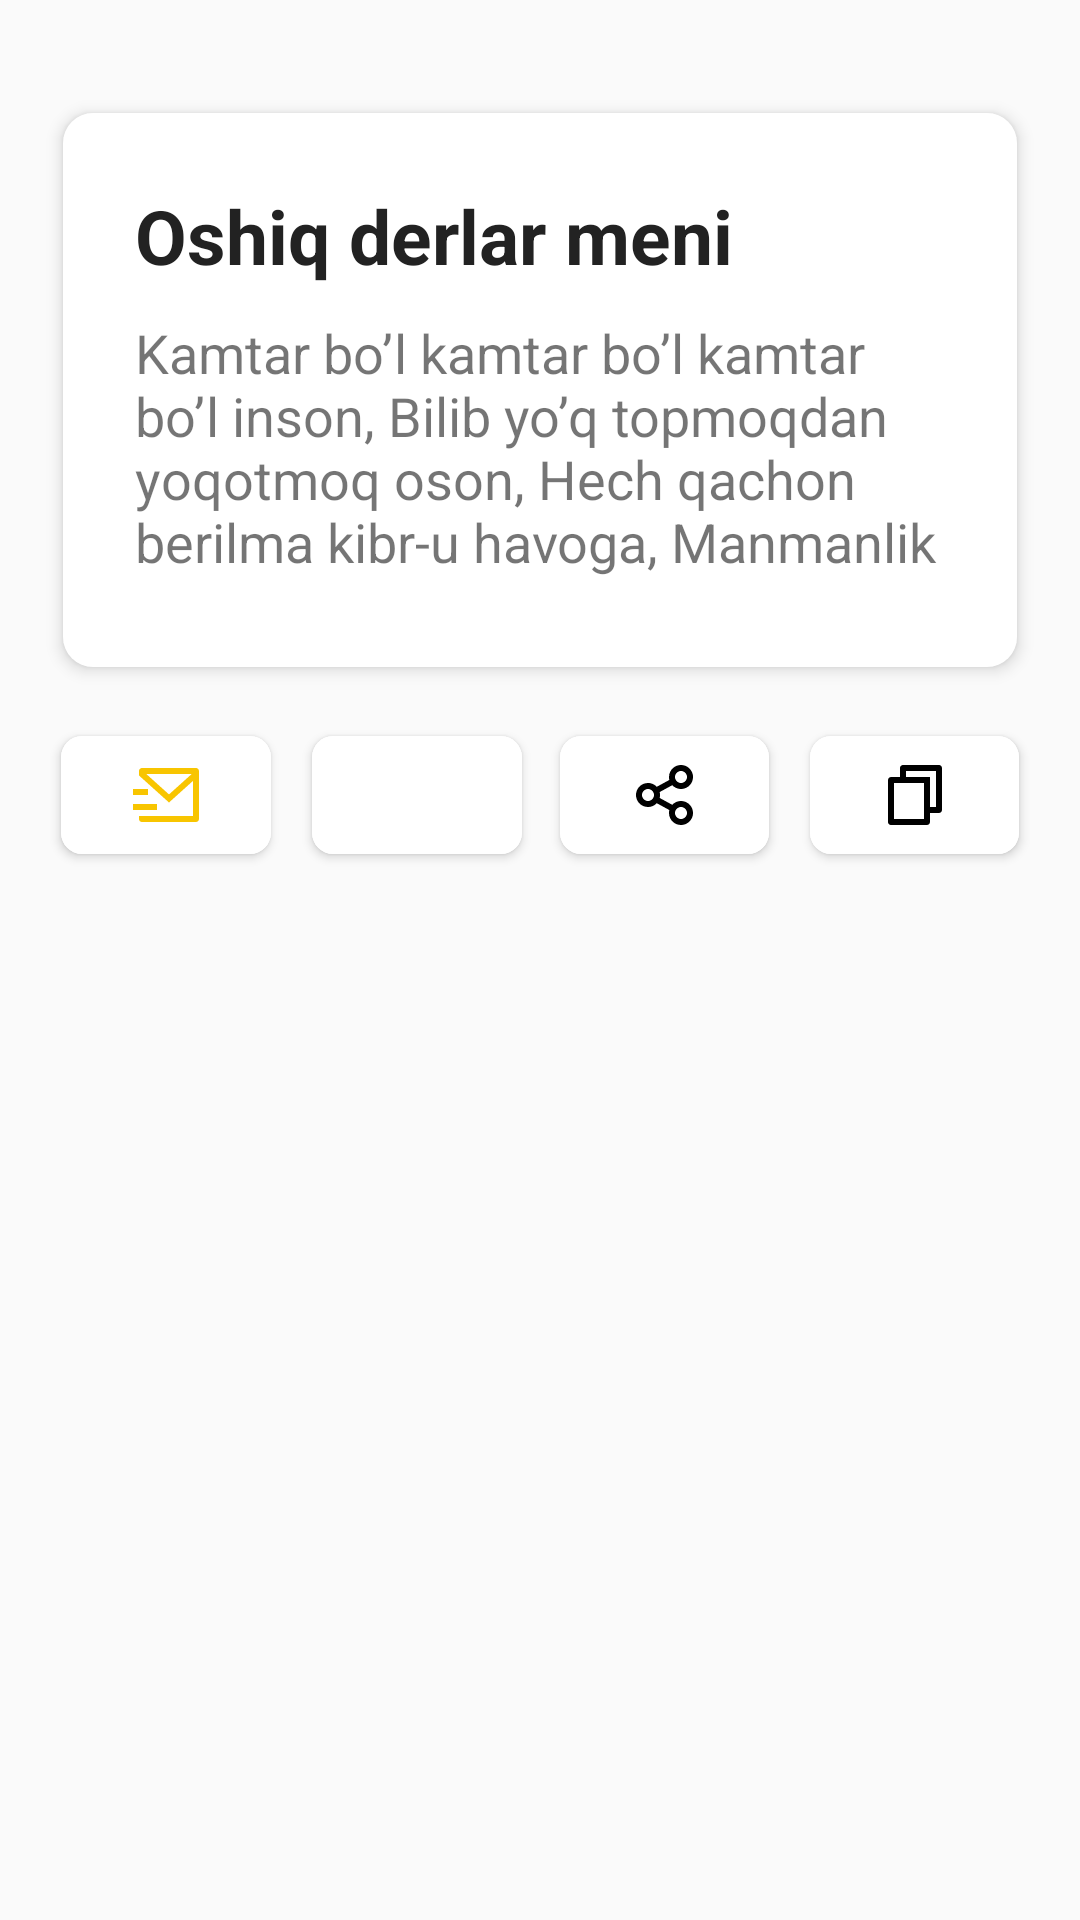

Icon bounding boxes for this 1080*1920 phone screenshot, format (x1, y1, x2, y2):
message: (61, 743, 271, 854)
share: (560, 746, 769, 854)
